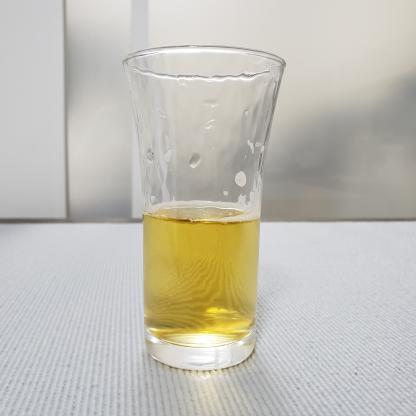glass: (112, 25, 302, 382)
